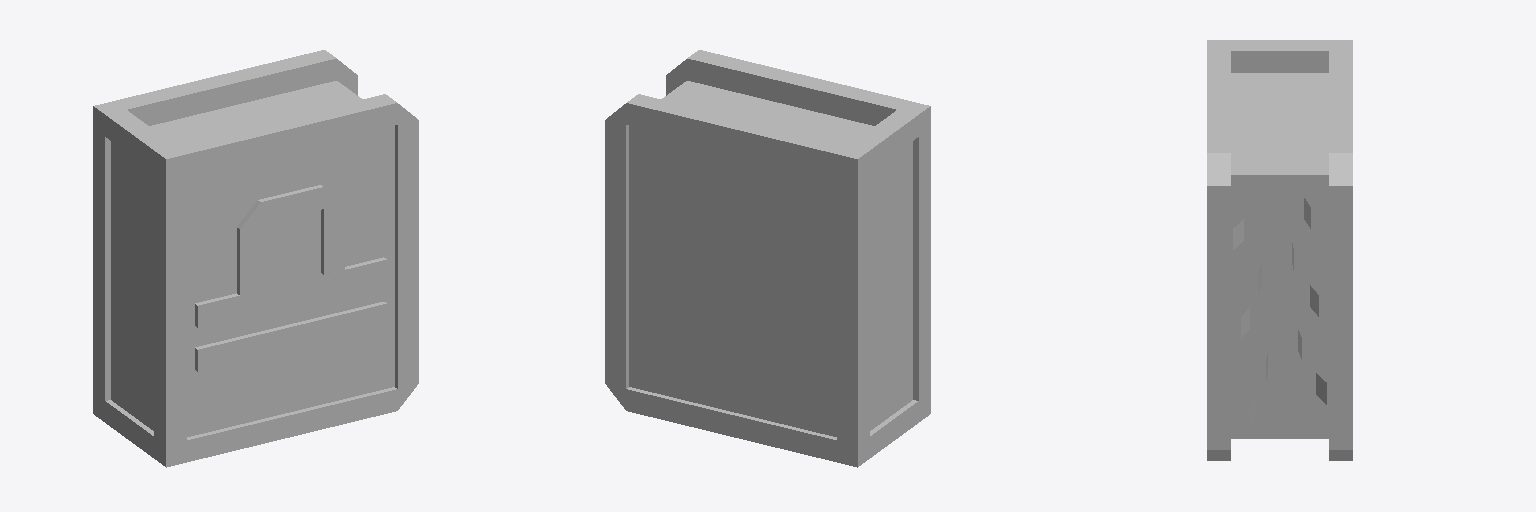
File: sublimation_primer_closed.obj
The picture shows the model from 3 angles: view 1: azimuth 30°, elevation 25°; view 2: azimuth 150°, elevation 25°; view 3: azimuth 270°, elevation 25°; orthographic projection.
Visible parts, largest first — view 1: COVER_RIGHT_CLOSED_Cube.003, SPINE_CLOSED_Cube.004, COVER_LEFT_CLOSED_Cube.007, PAGES_LEFT_CLOSED_Cube.008; view 2: COVER_LEFT_CLOSED_Cube.007, SPINE_CLOSED_Cube.004, COVER_RIGHT_CLOSED_Cube.003, PAGES_RIGHT_CLOSED_Cube.002; view 3: PAGES_RIGHT_CLOSED_Cube.002, PAGES_LEFT_CLOSED_Cube.008, COVER_RIGHT_CLOSED_Cube.003, COVER_LEFT_CLOSED_Cube.007, SPINE_CLOSED_Cube.004.
Boxes of the visible parts, <box> form: COVER_RIGHT_CLOSED_Cube.003: <box>154,94,418,467</box>; SPINE_CLOSED_Cube.004: <box>93,101,173,457</box>; COVER_LEFT_CLOSED_Cube.007: <box>105,50,357,400</box>; PAGES_LEFT_CLOSED_Cube.008: <box>149,81,359,143</box>; COVER_LEFT_CLOSED_Cube.007: <box>605,94,848,461</box>; SPINE_CLOSED_Cube.004: <box>837,110,918,467</box>; COVER_RIGHT_CLOSED_Cube.003: <box>666,50,930,421</box>; PAGES_RIGHT_CLOSED_Cube.002: <box>664,81,874,143</box>; PAGES_RIGHT_CLOSED_Cube.002: <box>1231,73,1279,438</box>; PAGES_LEFT_CLOSED_Cube.008: <box>1280,73,1328,438</box>; COVER_RIGHT_CLOSED_Cube.003: <box>1207,40,1230,460</box>; COVER_LEFT_CLOSED_Cube.007: <box>1329,51,1352,460</box>; SPINE_CLOSED_Cube.004: <box>1231,40,1352,72</box>.
Bounding box in the file's own units: 0.75 × 0.875 × 0.375.